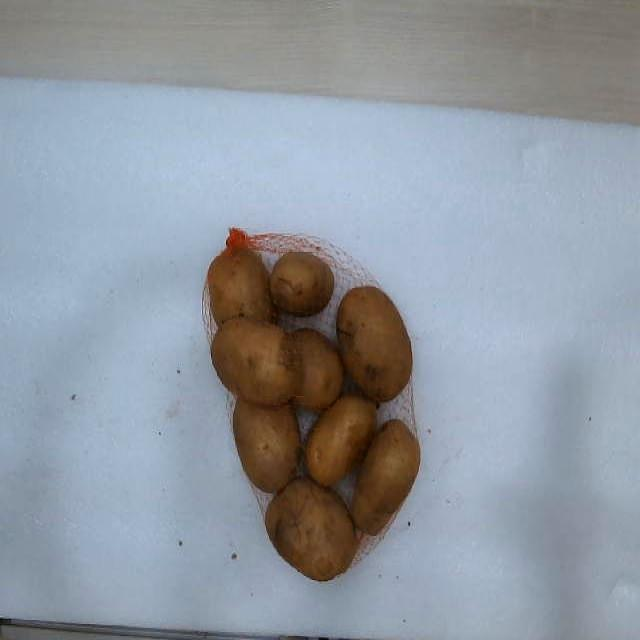potato: (268, 477, 356, 581), (336, 287, 411, 402), (352, 420, 419, 534), (214, 322, 296, 404), (306, 395, 376, 486), (232, 398, 300, 491), (208, 248, 272, 324), (291, 330, 342, 411), (270, 252, 334, 316)
